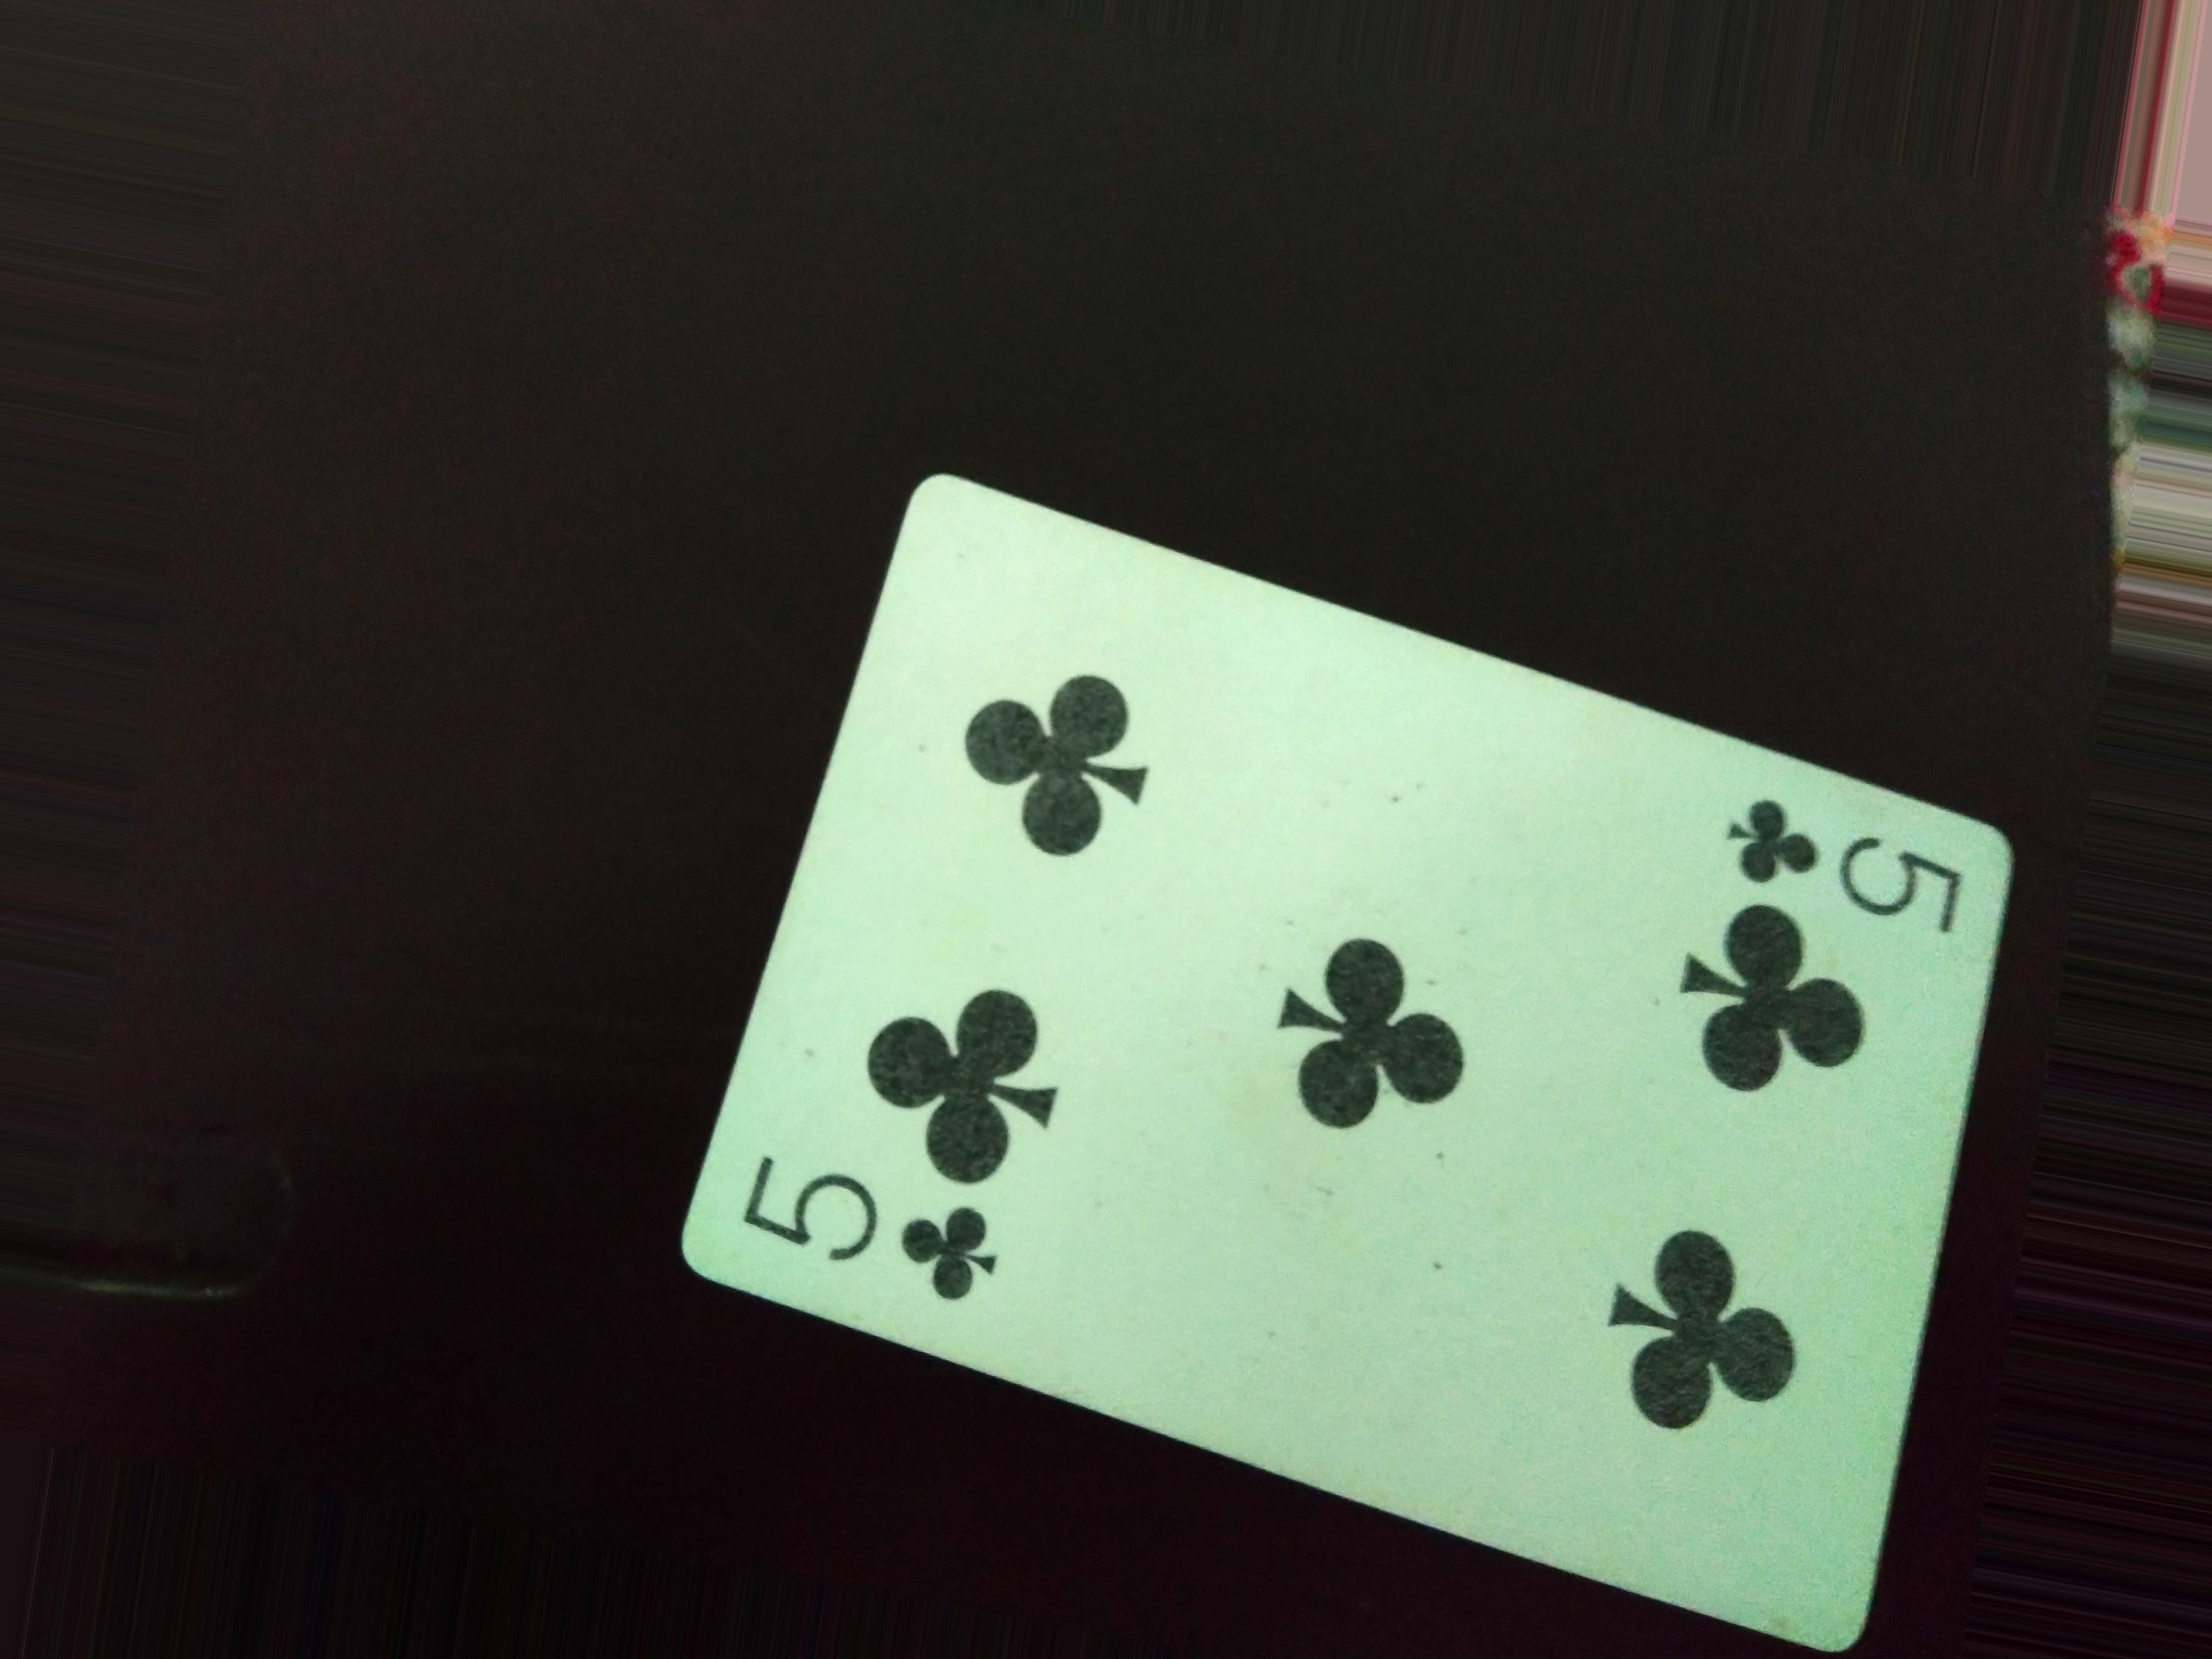5C: (1728, 789, 1991, 938)
